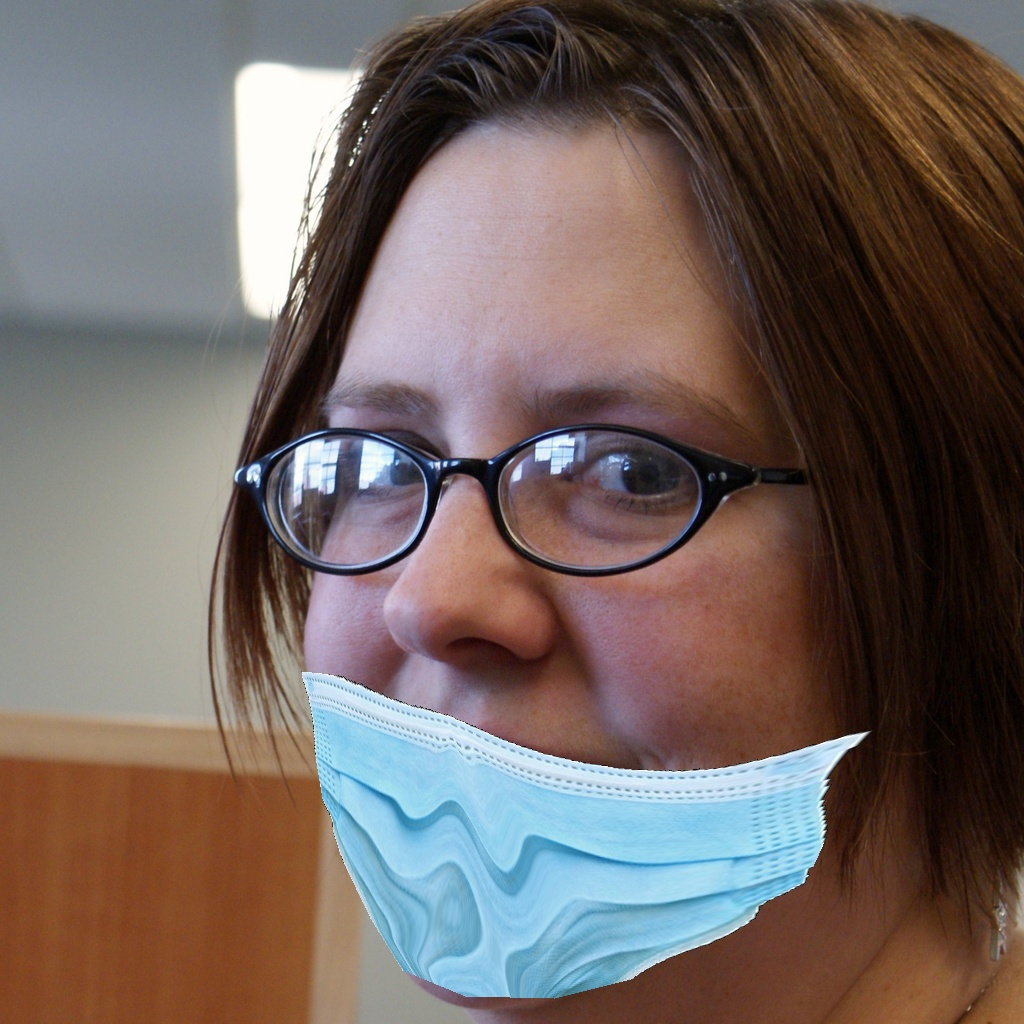mascarilla_mal_puesta: (189, 298, 937, 990)
